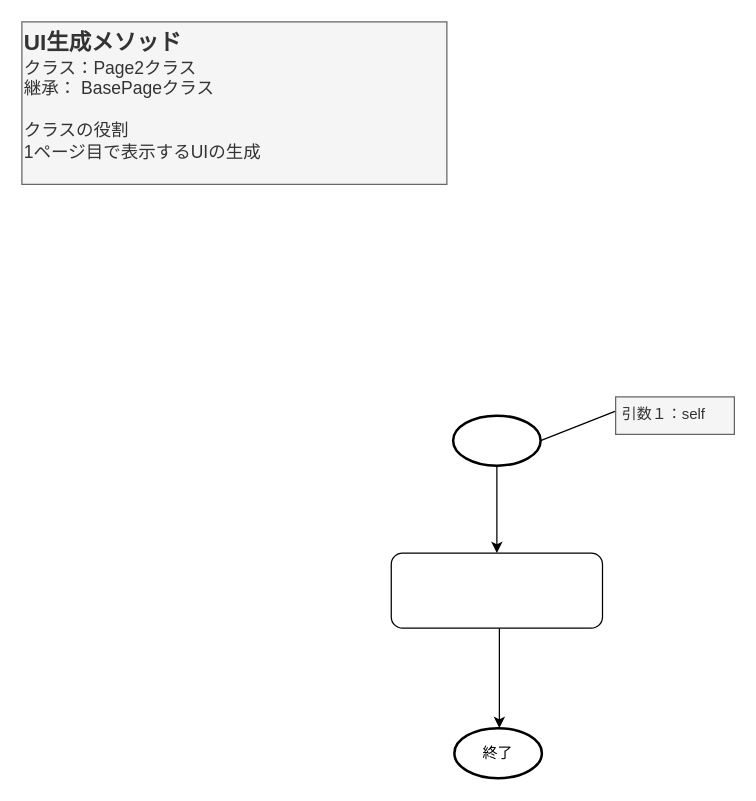
This 756x801 diagram has some shape labels left out. The shapes that lost their labels are listed below. From the top down, each one's box as (x1, y1, x2, y2) in pixels, then its label:
(451, 414, 541, 466): 開始
(390, 552, 602, 628): UI生成のための処理
